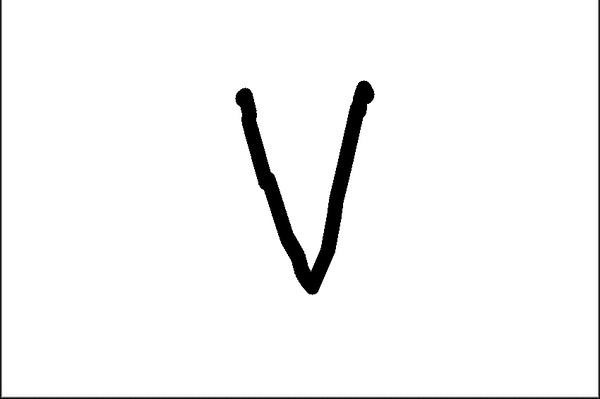V: (230, 74, 384, 297)
